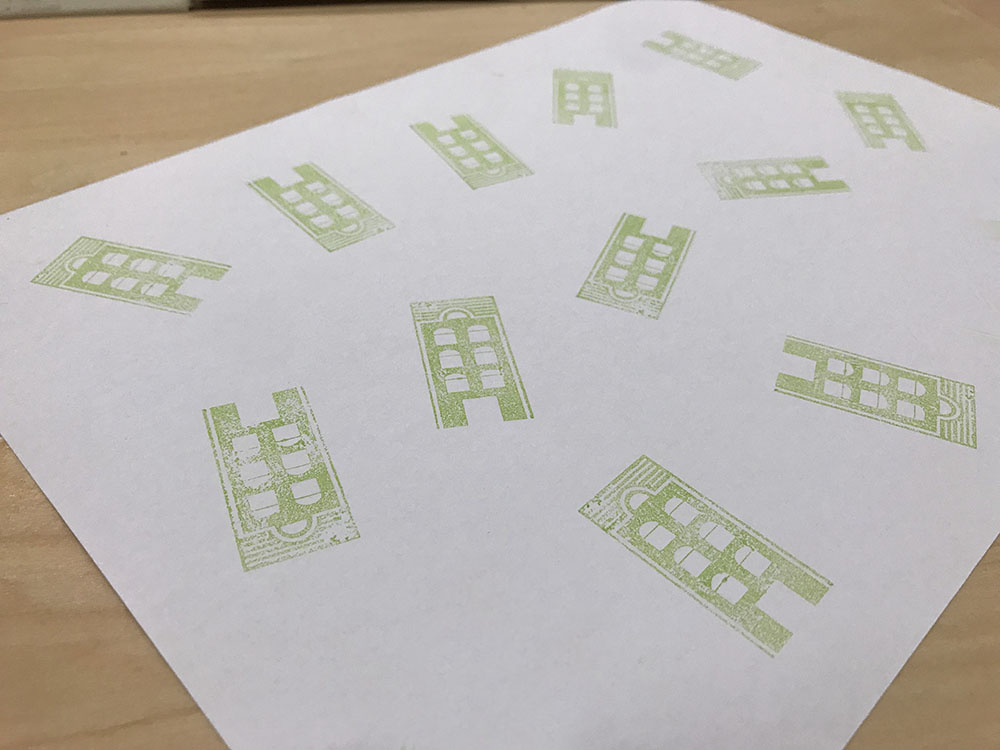build: (559, 434, 851, 671), (169, 376, 383, 590), (751, 323, 1000, 472), (15, 223, 251, 333), (399, 284, 546, 444), (230, 150, 416, 267), (566, 202, 708, 337), (401, 108, 547, 196), (626, 19, 783, 92), (687, 145, 865, 208), (825, 80, 944, 166), (541, 59, 632, 145)
